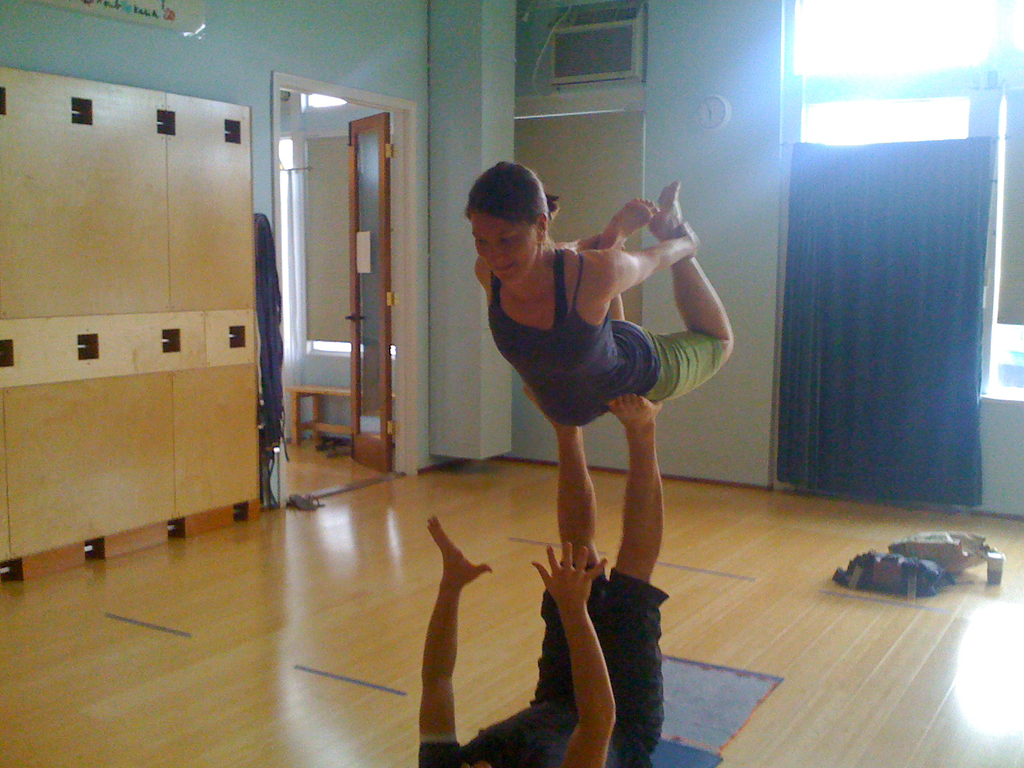Person: (418, 385, 669, 767), (465, 160, 734, 426)
